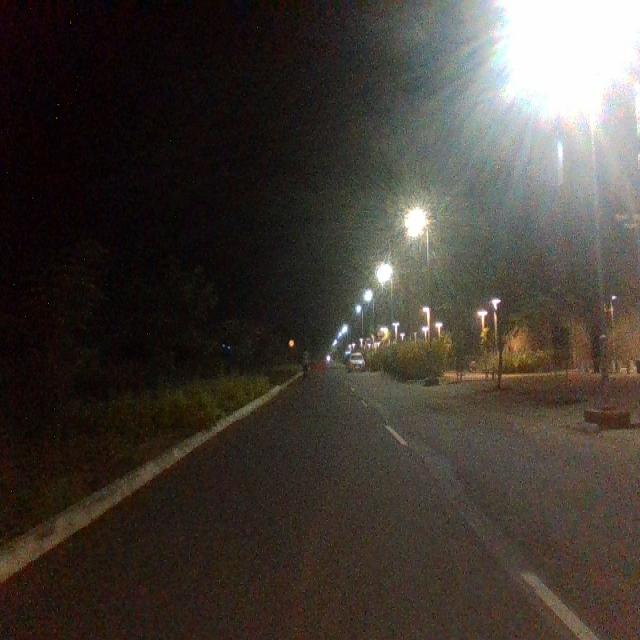lane: (0, 375, 580, 640)
